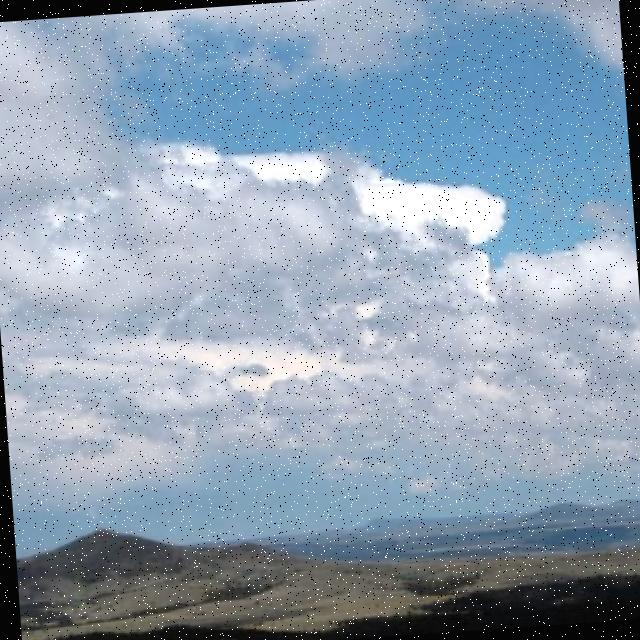Ci: (1, 21, 640, 495)
